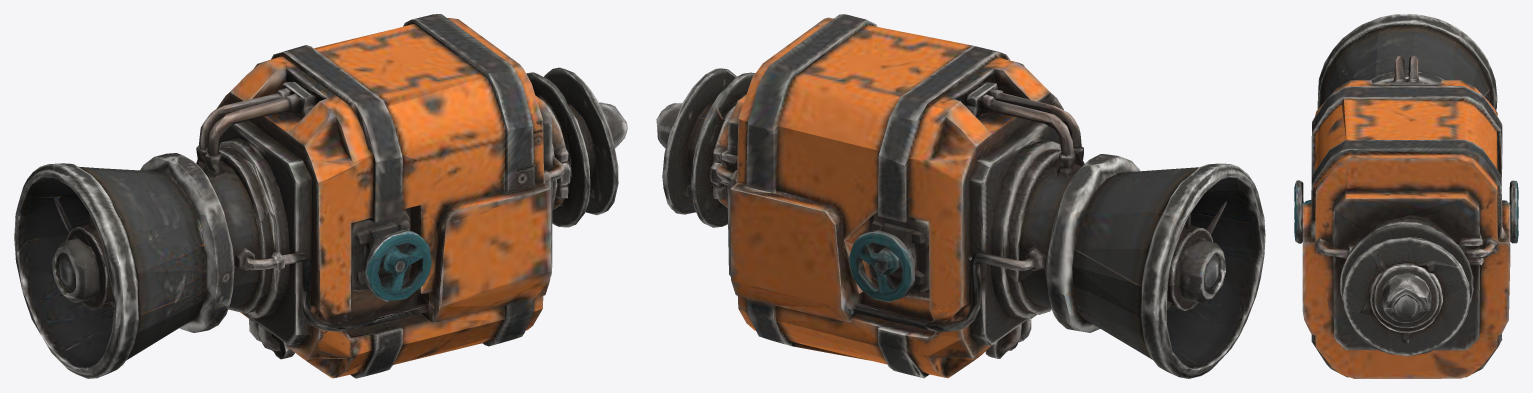
File: flame.glb
The picture shows the model from 3 angles, left to right: view 1: azimuth 30°, elevation 25°; view 2: azimuth 150°, elevation 25°; view 3: azimuth 270°, elevation 25°; orthographic projection. The views are drawn at different scales.
Parts seen in each view (by area): view 1: Mesh_0; view 2: Mesh_0; view 3: Mesh_0.
Part boxes in pixels (x1,y1,x2,y2): Mesh_0: [14, 14, 627, 378]; Mesh_0: [656, 14, 1265, 378]; Mesh_0: [1294, 14, 1518, 378].
Bounding box in the file's own units: 0.949 × 0.45 × 0.4017.
Materials: 1 (1 with a texture image).
